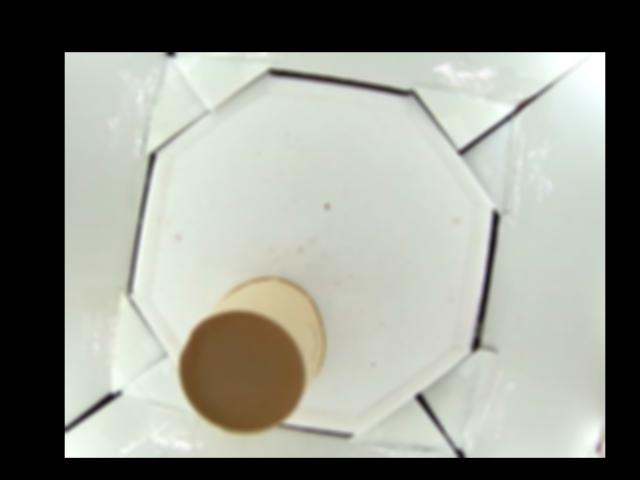Cup: (177, 276, 325, 434)
